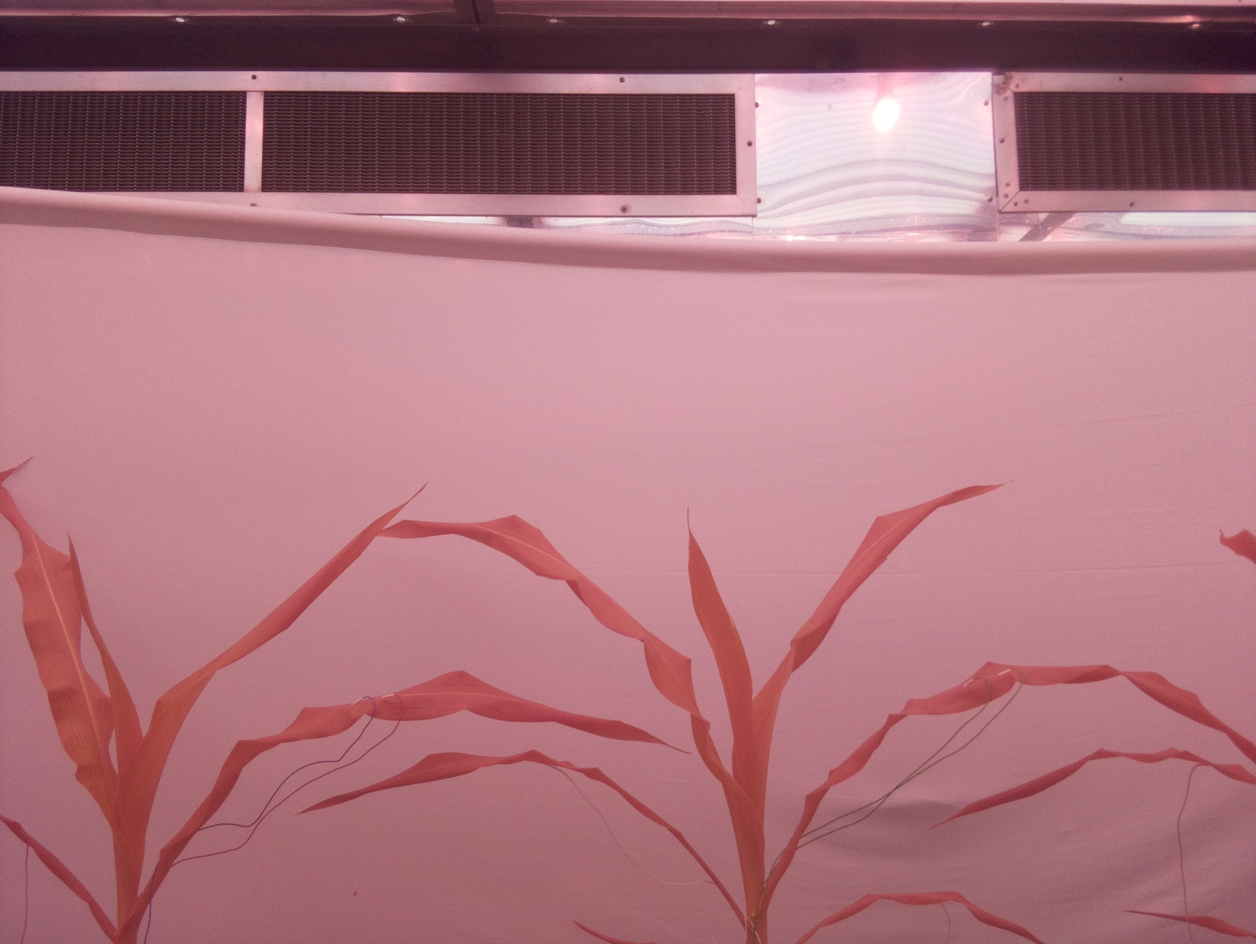maize: (296, 478, 1256, 944), (1, 454, 697, 944)
